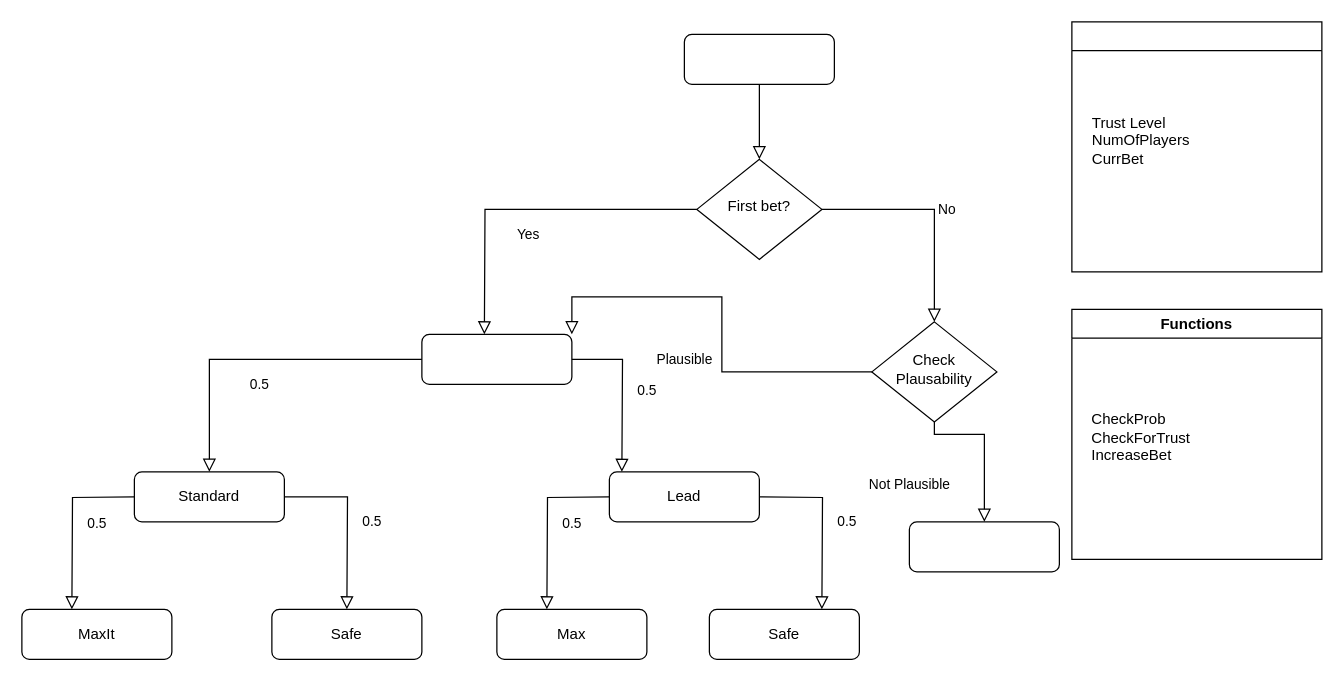
The diagram is 1344 pixels wide and 681 high, and some of its shapes have lost their labels. Here are the shapes that lost their labels. From the top down, the box of each, then its label:
(683, 33, 834, 84): Start
(1071, 21, 1322, 272): Variables
(421, 333, 572, 384): IncreaseBet
(908, 521, 1059, 572): Lie
